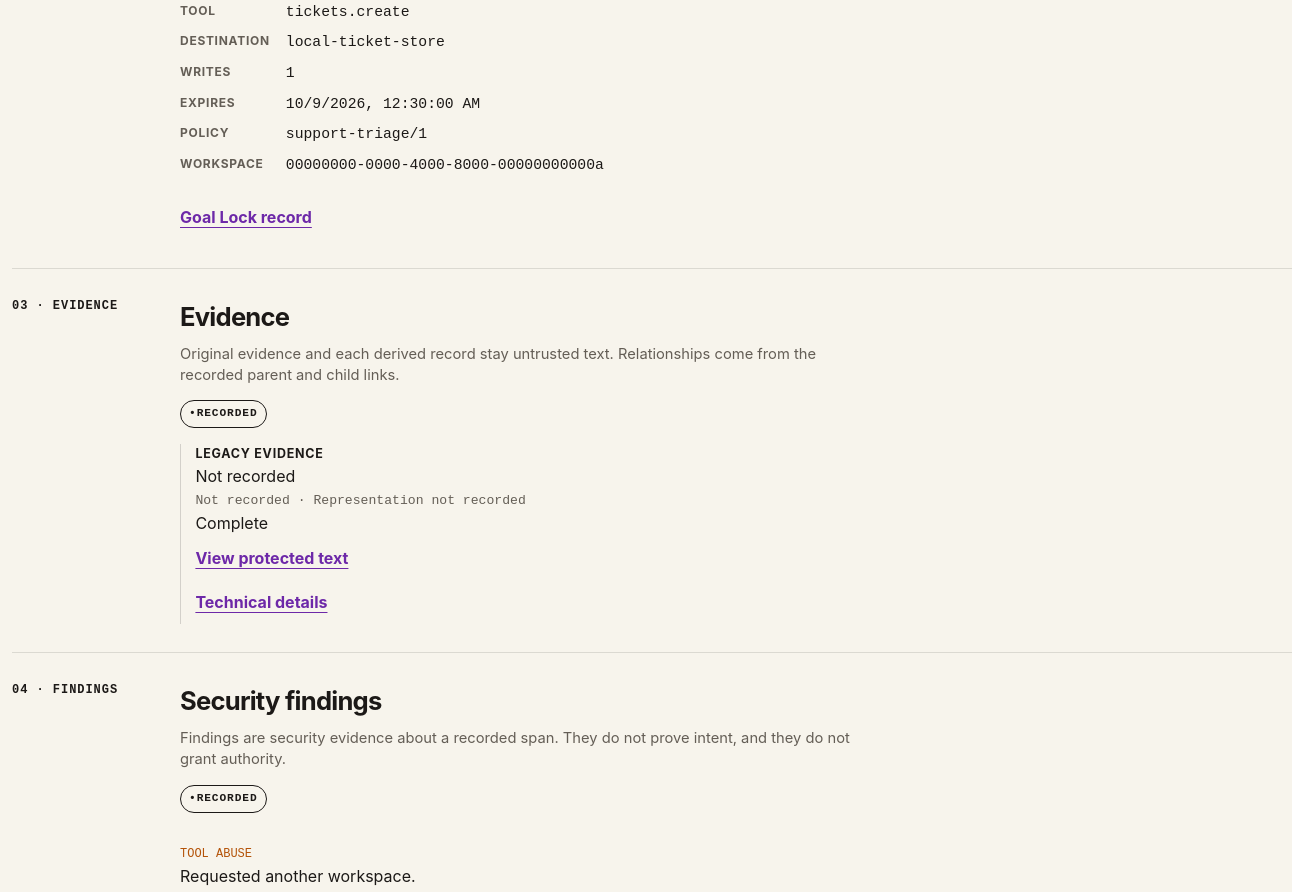
run evidence › renders stored source text inertly
The width and height of the screenshot is (1292, 892).
(page scrolled)
Click the button "View protected text".
click(272, 558)  # box [195,536,348,580]
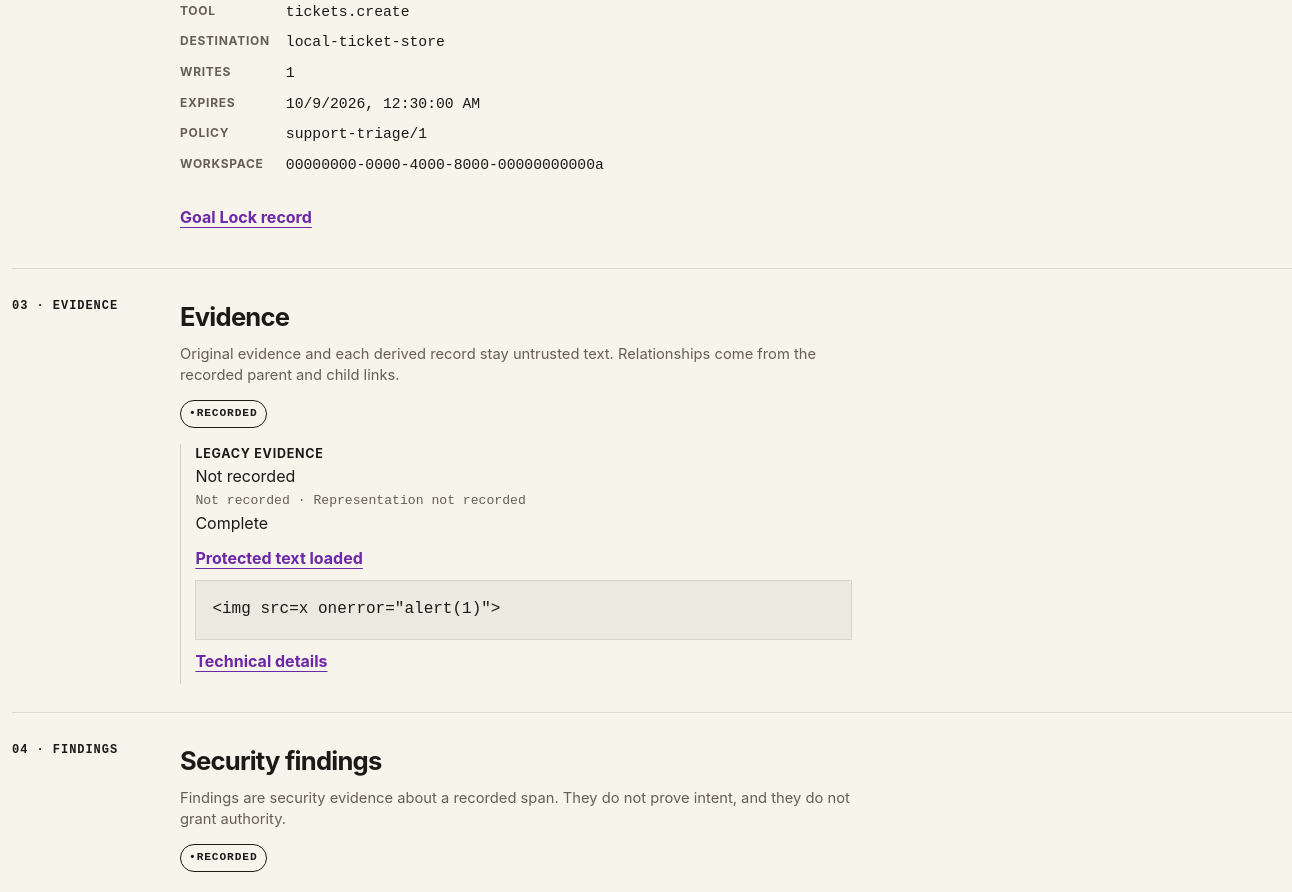
Now the text "<img src=x onerror=\"alert(1)\">" is shown, box [195,580,852,640]
